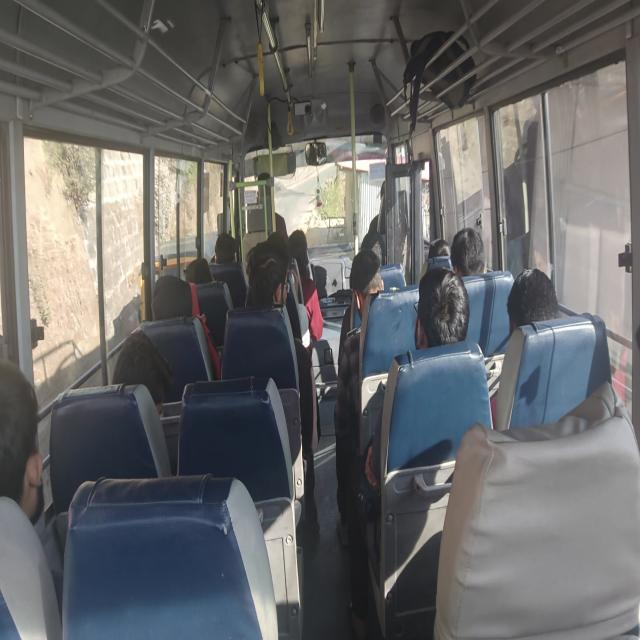person: (432, 380, 640, 638), (350, 266, 470, 636), (245, 242, 321, 532), (0, 358, 62, 638), (333, 248, 384, 546), (486, 266, 560, 428), (0, 358, 45, 526), (151, 274, 221, 379), (336, 248, 384, 372), (112, 328, 173, 418), (413, 266, 470, 349), (287, 229, 324, 343), (450, 226, 487, 276), (183, 257, 214, 284), (213, 232, 237, 264), (427, 238, 451, 258)
